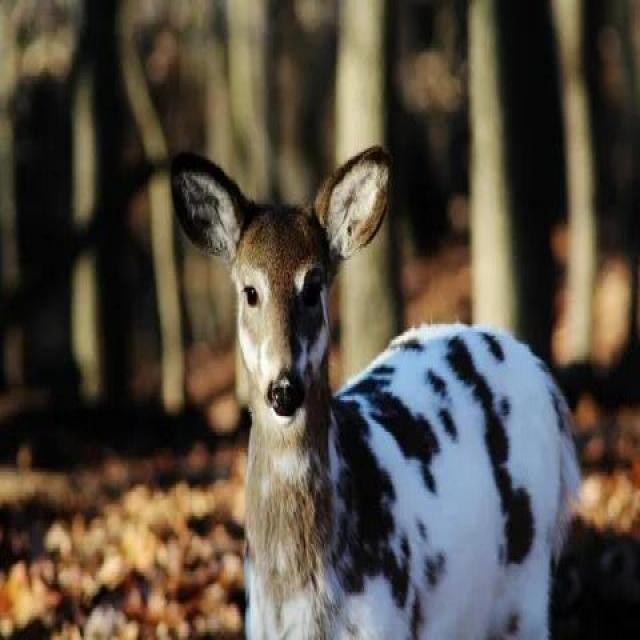deer: (173, 152, 594, 619)
